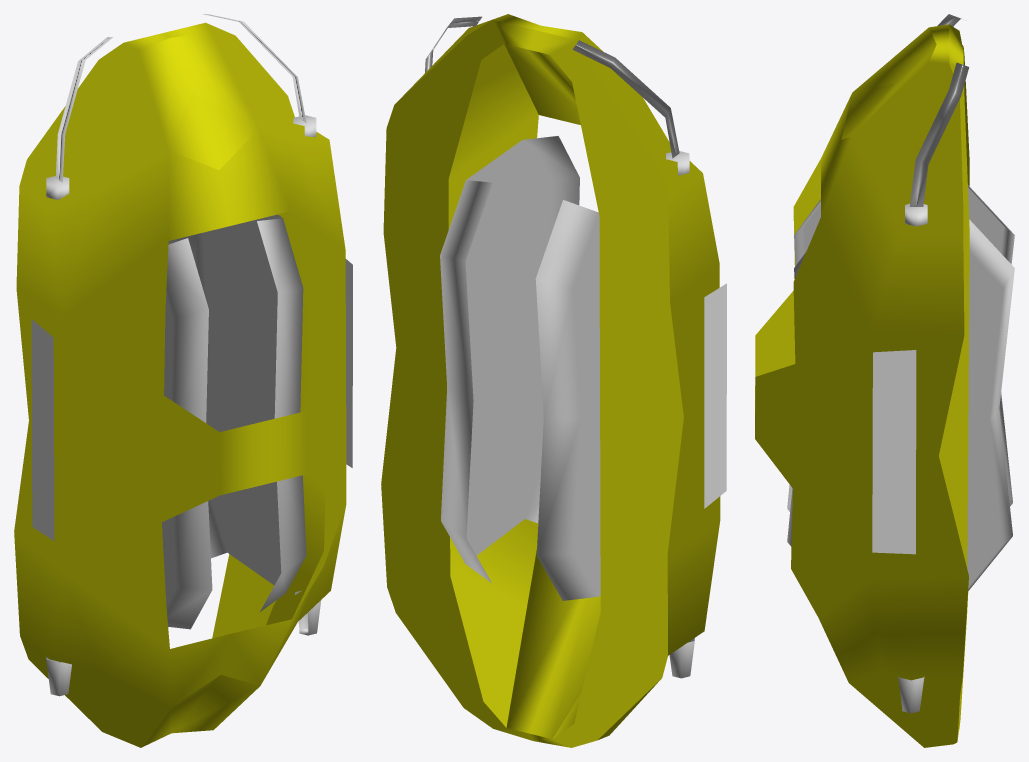
The model's file is Shared_Caliper_Car_Porsche_991TurboS_2018_Caliper03_M_FL.fbx.
The picture shows the model from 3 angles, left to right: view 1: azimuth 30°, elevation 25°; view 2: azimuth 150°, elevation 25°; view 3: azimuth 270°, elevation 25°; orthographic projection. The views are drawn at different scales.
Parts seen in each view (by area): view 1: Car_Porsche_CarreraS_2014_Caliper03_M_FL 1; view 2: Car_Porsche_CarreraS_2014_Caliper03_M_FL 1; view 3: Car_Porsche_CarreraS_2014_Caliper03_M_FL 1.
Part boxes in pixels (box(x1,y1,x2,y2)): Car_Porsche_CarreraS_2014_Caliper03_M_FL 1: box(14, 14, 352, 747); Car_Porsche_CarreraS_2014_Caliper03_M_FL 1: box(381, 14, 726, 747); Car_Porsche_CarreraS_2014_Caliper03_M_FL 1: box(755, 14, 1014, 747).
Bounding box in the file's own units: 0.1475 × 0.3305 × 0.1127.
